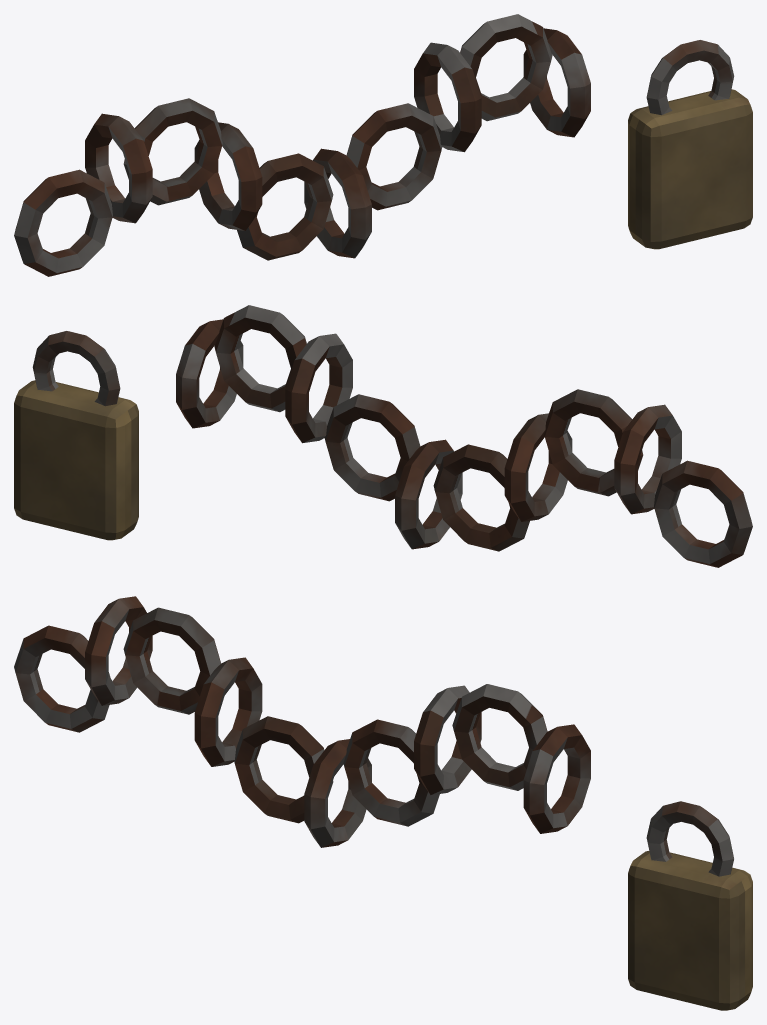
The model's file is P06_padlock_and_chain.glb.
3 renders of one model, top to bottom at view 1: azimuth 30°, elevation 25°; view 2: azimuth 150°, elevation 25°; view 3: azimuth 330°, elevation 25°, orthographic.
Visible parts, largest first — view 1: P06_padlock_and_chain; view 2: P06_padlock_and_chain; view 3: P06_padlock_and_chain.
Part boxes in pixels (box(x1,y1,x2,y2)): P06_padlock_and_chain: box(14, 14, 752, 276); P06_padlock_and_chain: box(14, 305, 752, 567); P06_padlock_and_chain: box(14, 596, 752, 1010).
Size of the model in its own units: 0.4 by 0.1371 by 0.0521.
2 materials, 2 textured.
